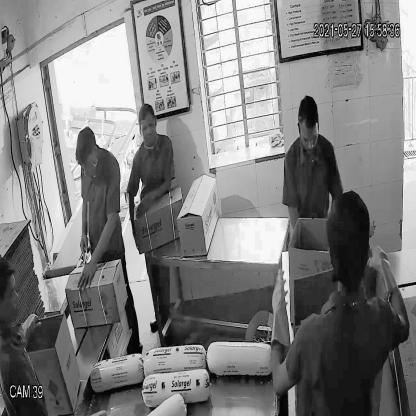no_goggles: (298, 128, 322, 147), (136, 119, 160, 136)
